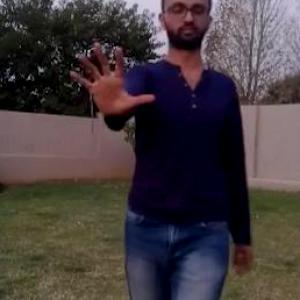follow_hand: (64, 36, 158, 120)
